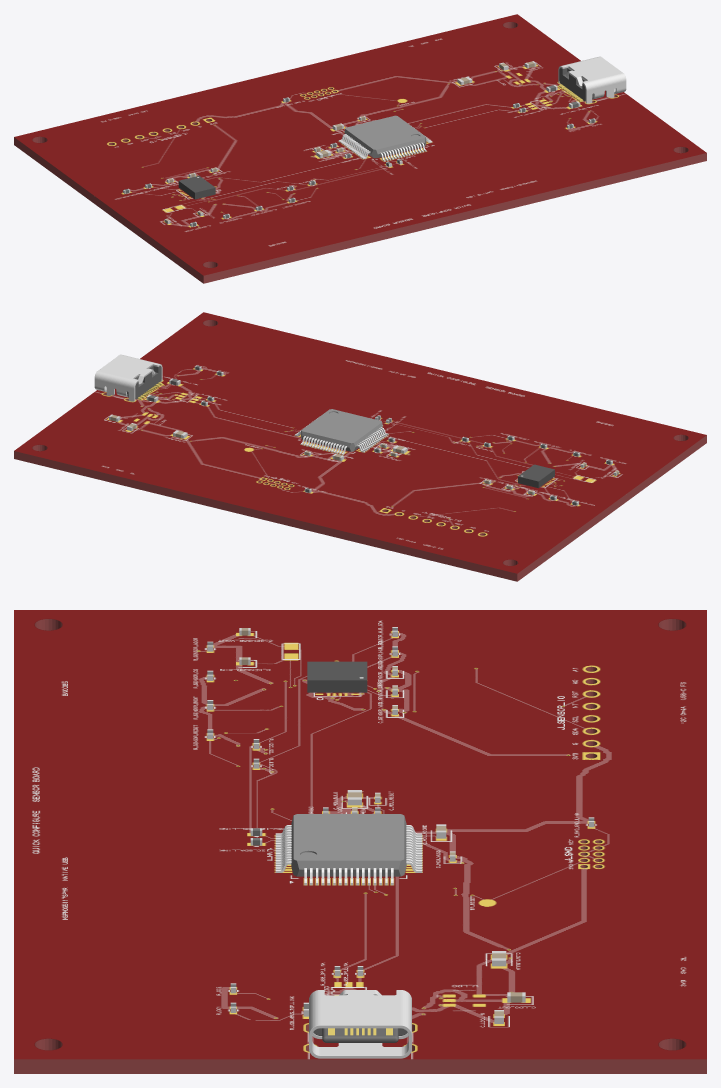
3 renders of one model, top to bottom at view 1: azimuth 30°, elevation 25°; view 2: azimuth 150°, elevation 25°; view 3: azimuth 270°, elevation 25°, orthographic. The views are drawn at different scales.
Parts seen in each view (by area): view 1: Box0, U_MAIN, J_USB, U_SENSOR; view 2: Box0, U_MAIN, J_USB, U_SENSOR; view 3: Box0, U_MAIN, J_USB, U_SENSOR.
Part boxes in pixels (<box>): Box0: <box>14,14,706,283</box>; U_MAIN: <box>338,115,432,161</box>; J_USB: <box>558,56,626,103</box>; U_SENSOR: <box>178,175,215,199</box>; Box0: <box>14,312,706,581</box>; U_MAIN: <box>294,409,388,454</box>; J_USB: <box>94,354,162,401</box>; U_SENSOR: <box>518,464,554,488</box>; Box0: <box>14,610,706,1073</box>; U_MAIN: <box>275,814,422,885</box>; J_USB: <box>309,990,411,1058</box>; U_SENSOR: <box>307,661,367,692</box>.
Size of the model in its own units: 92.04 by 4.65 by 60.
15 materials, 2 textured.
